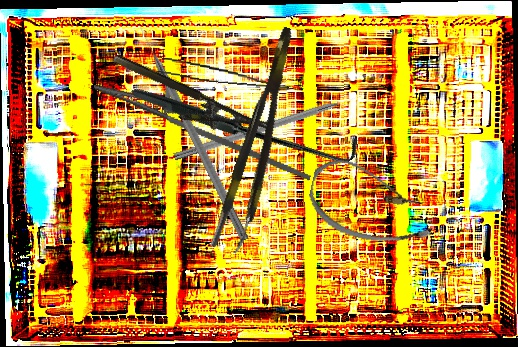Cannula: (302, 153, 443, 254)
Hook Surgical: (130, 3, 365, 240), (136, 23, 252, 242), (173, 91, 363, 164)
Needle Holder: (85, 65, 324, 183), (102, 51, 274, 156)
Tissue Forceps: (209, 25, 313, 256), (156, 57, 291, 90)
